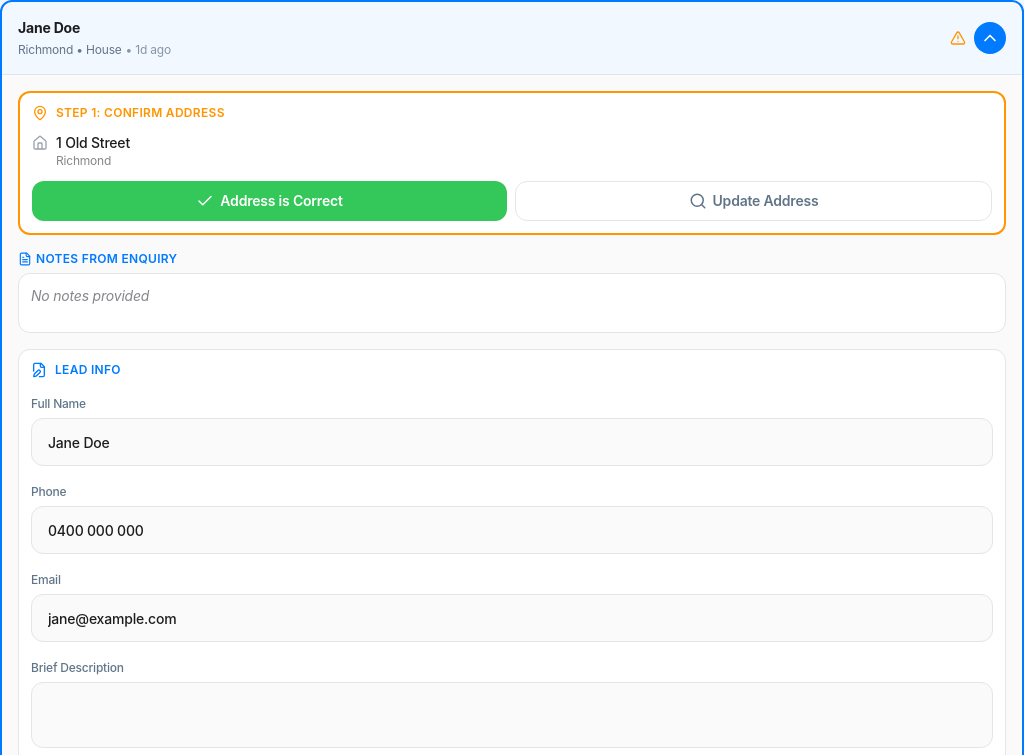
Test: LeadBookingCard address capture › should show the plain street line when Places returns no subpremise
The image size is (1024, 755).
Click the button "Update Address" at coordinates (754, 201), box [515, 181, 992, 221]
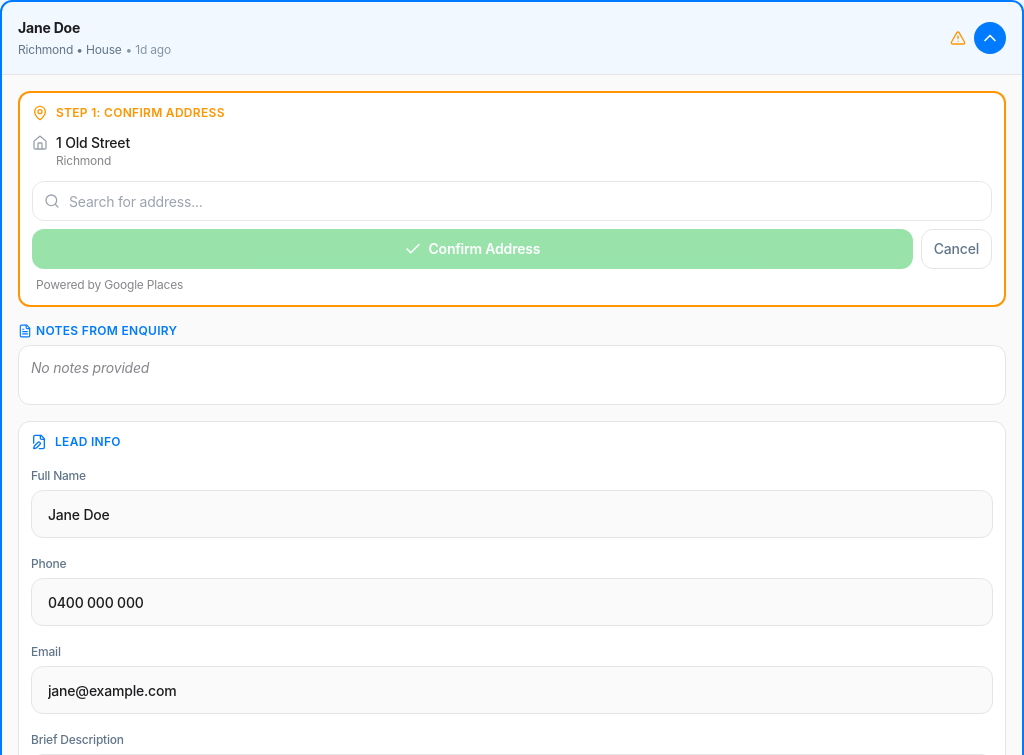
Type "smith" into the field with placeholder "Search for address..." at coordinates (512, 201), box [32, 181, 992, 221]
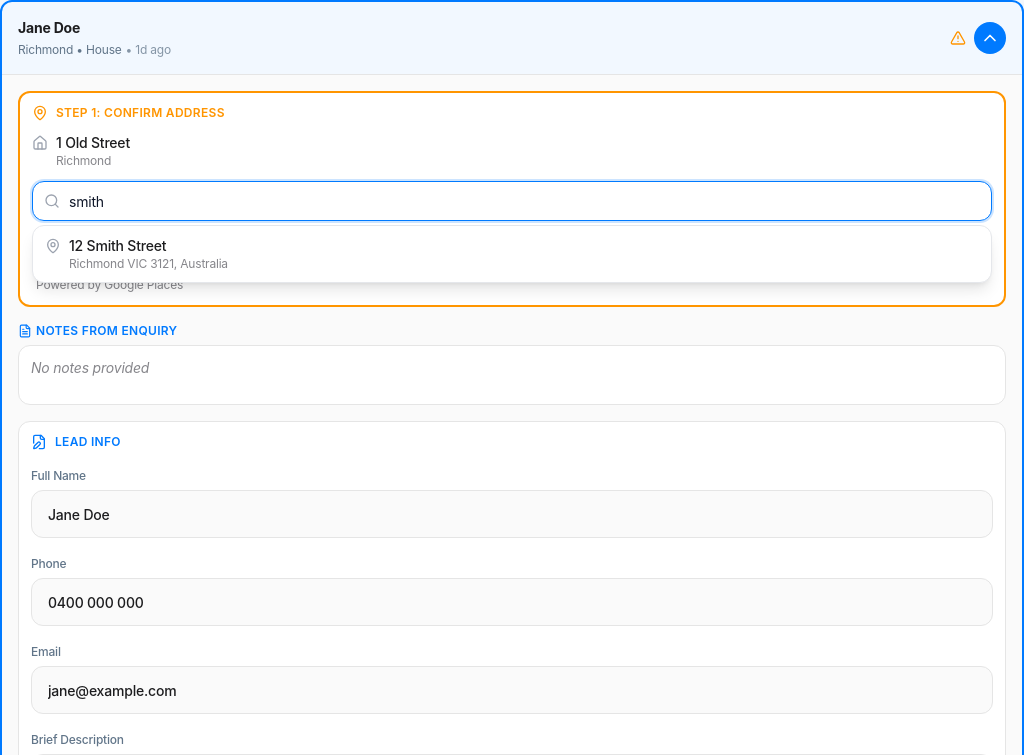
Click the button "12 Smith Street Richmond VIC 3121, Australia" at coordinates (118, 246), box [33, 226, 991, 282]
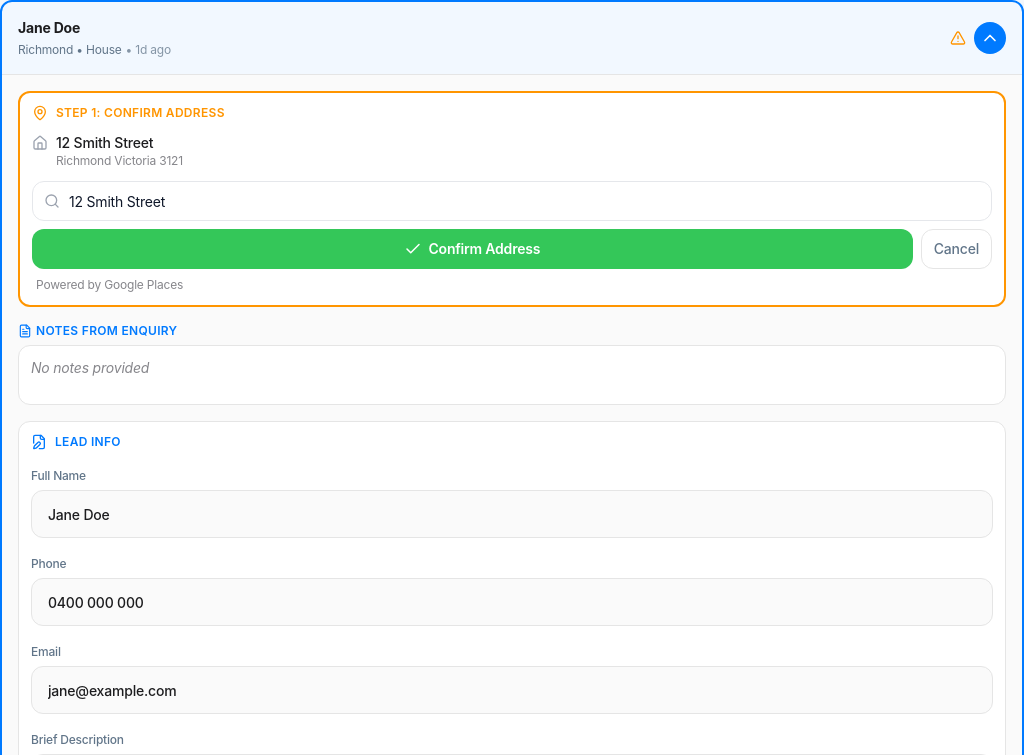
Result: the field with placeholder "Search for address..." below "Richmond Victoria 3121" holds "12 Smith Street" at [32, 181, 992, 221]
